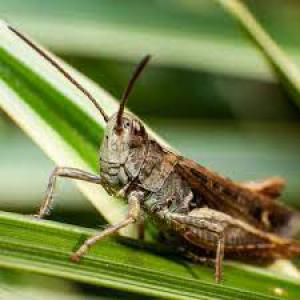locust: (68, 77, 285, 260)
